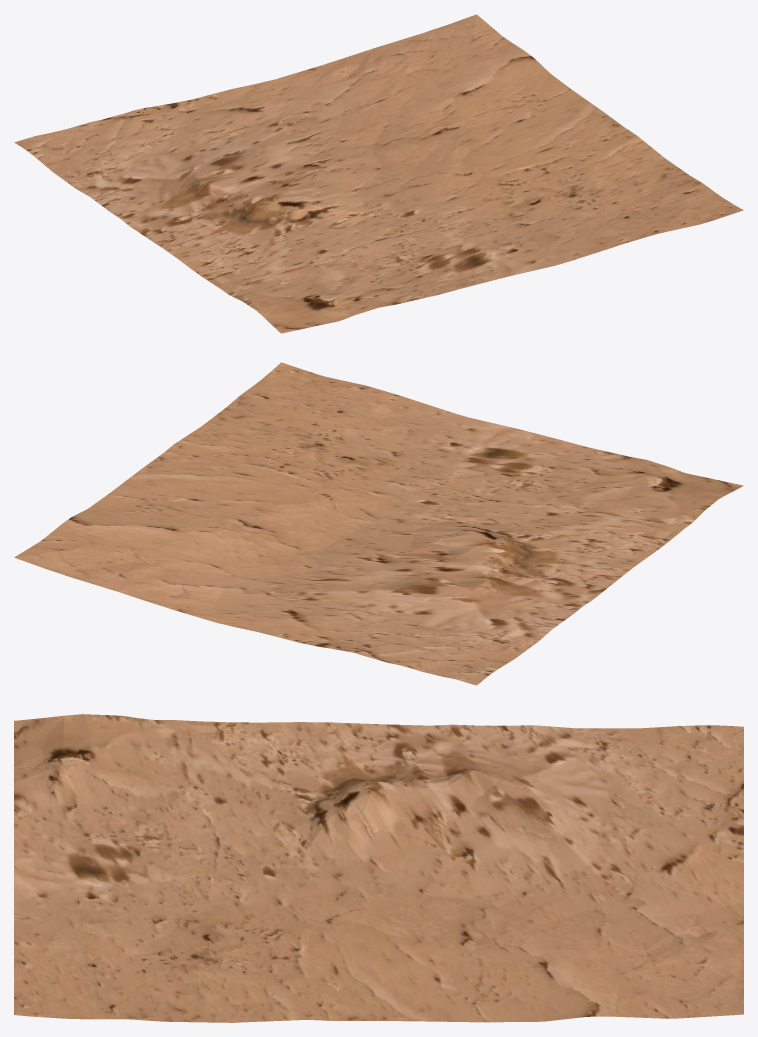
3 renders of one model, top to bottom at view 1: azimuth 30°, elevation 25°; view 2: azimuth 150°, elevation 25°; view 3: azimuth 270°, elevation 25°, orthographic. The views are drawn at different scales.
Size of the model in its own units: 1.04 by 0.0359 by 1.04.
2 materials, 2 textured.
